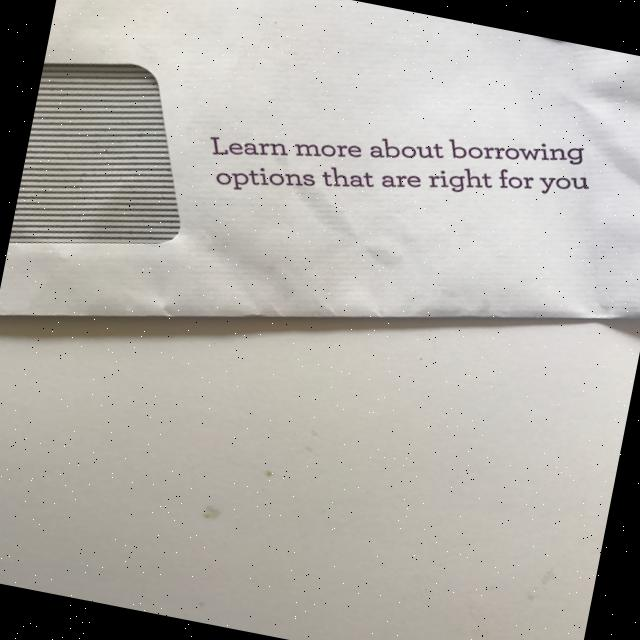paper: (0, 0, 640, 438)
